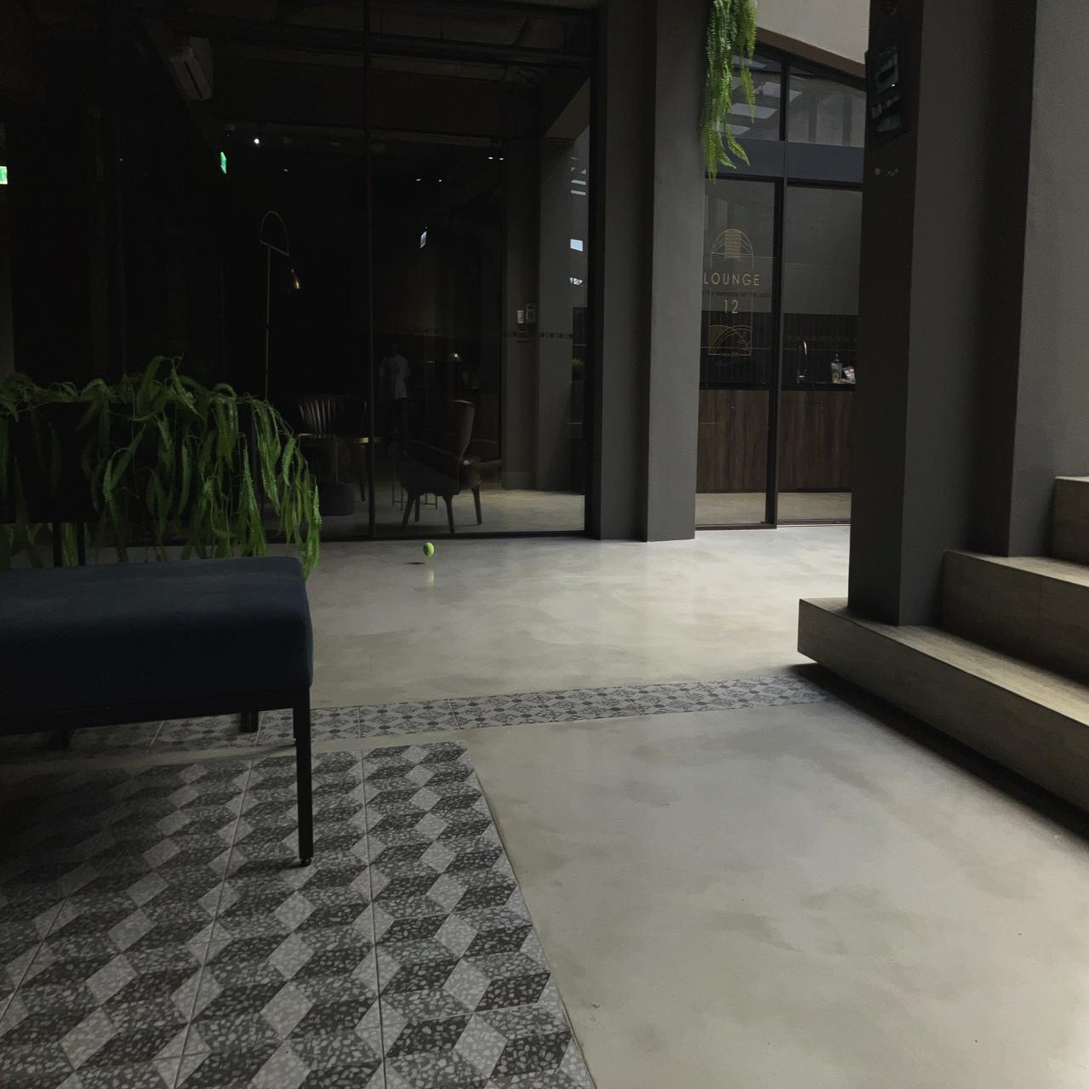tennisball: (423, 543, 434, 556)
